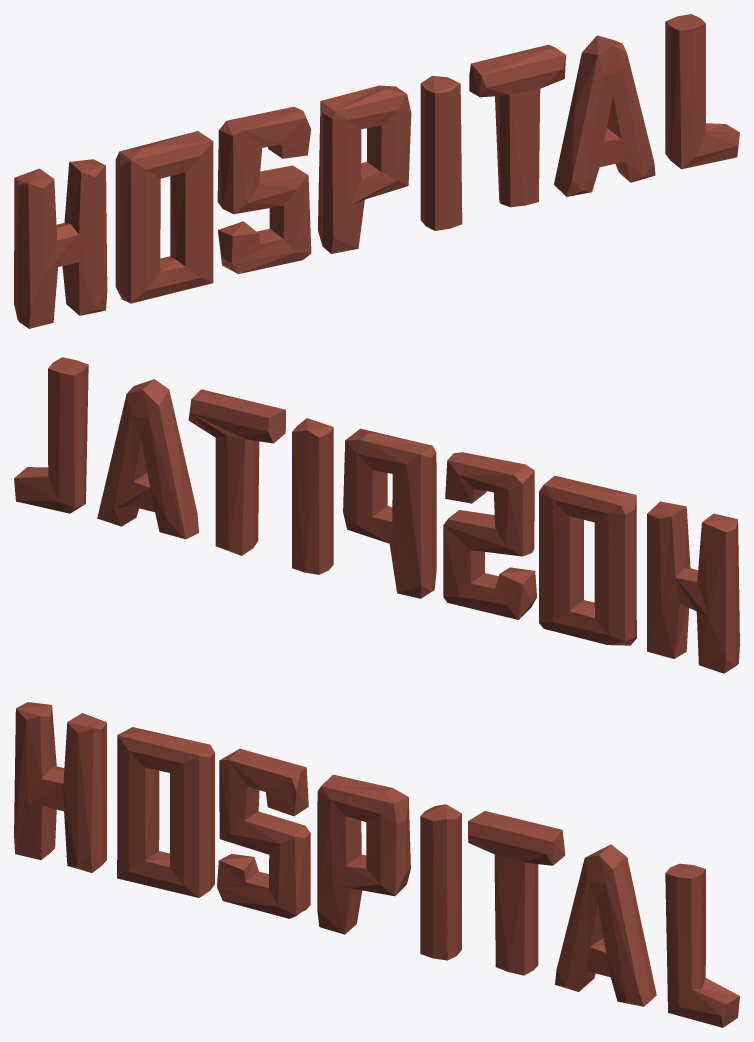
Rendered from SM_Prop_Sign_Hospital_01.fbx.
The picture shows the model from 3 angles, top to bottom: view 1: azimuth 30°, elevation 25°; view 2: azimuth 150°, elevation 25°; view 3: azimuth 330°, elevation 25°; orthographic projection.
Visible parts, largest first — view 1: SM_Prop_Sign_Hospital_01; view 2: SM_Prop_Sign_Hospital_01; view 3: SM_Prop_Sign_Hospital_01.
Boxes of the visible parts, <box> form: SM_Prop_Sign_Hospital_01: <box>14,14,739,328</box>; SM_Prop_Sign_Hospital_01: <box>14,357,739,673</box>; SM_Prop_Sign_Hospital_01: <box>14,702,739,1027</box>.
Size of the model in its own units: 334 by 65.86 by 13.58.
